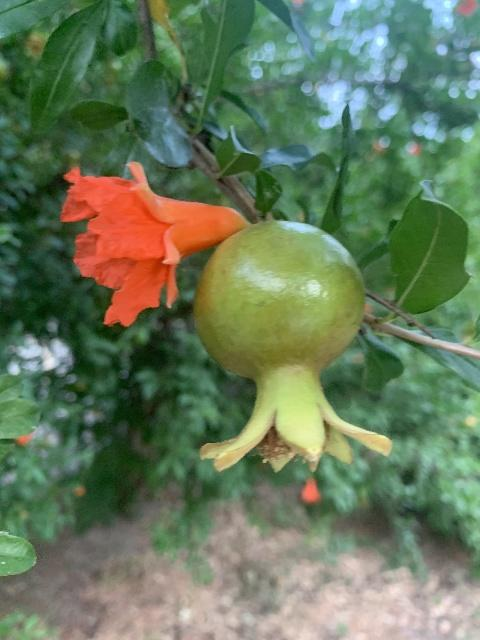flower: (60, 160, 247, 327)
mid-growth: (193, 222, 389, 480)
